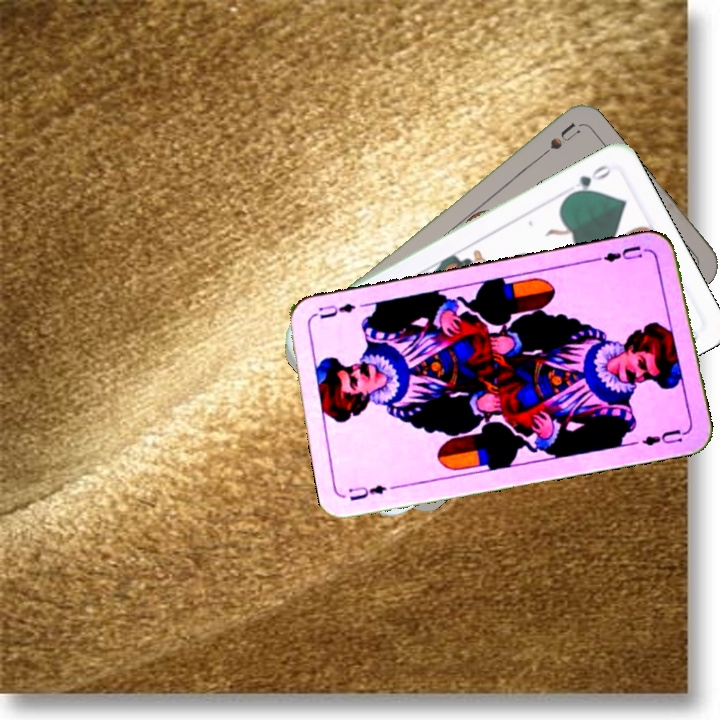EU: (594, 241, 653, 265), (344, 481, 389, 503)
GO: (563, 160, 615, 200)
SU: (530, 118, 583, 165)
